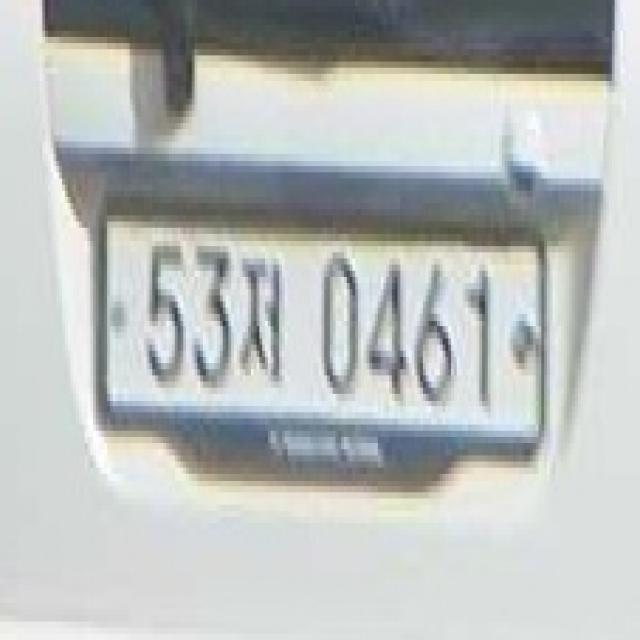0: (316, 246, 364, 406)
1: (454, 234, 502, 406)
3: (183, 234, 237, 394)
4: (358, 227, 409, 418)
5: (135, 234, 189, 394)
6: (406, 246, 460, 419)
jeo: (232, 240, 290, 388)
license_plate: (79, 203, 553, 462)
